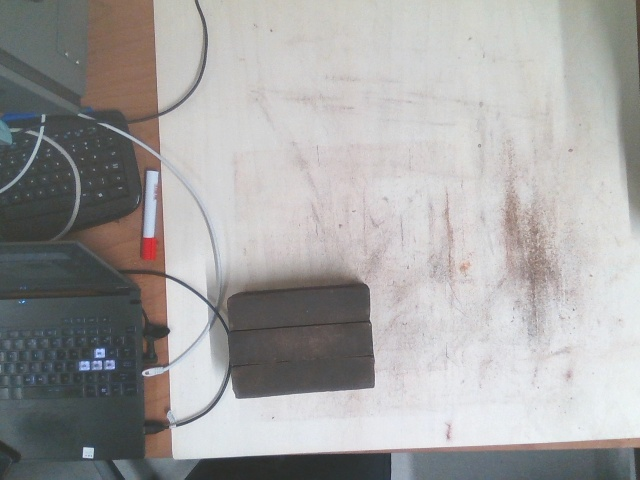brick-side: (235, 356, 372, 397), (233, 323, 370, 364), (231, 288, 368, 329)
